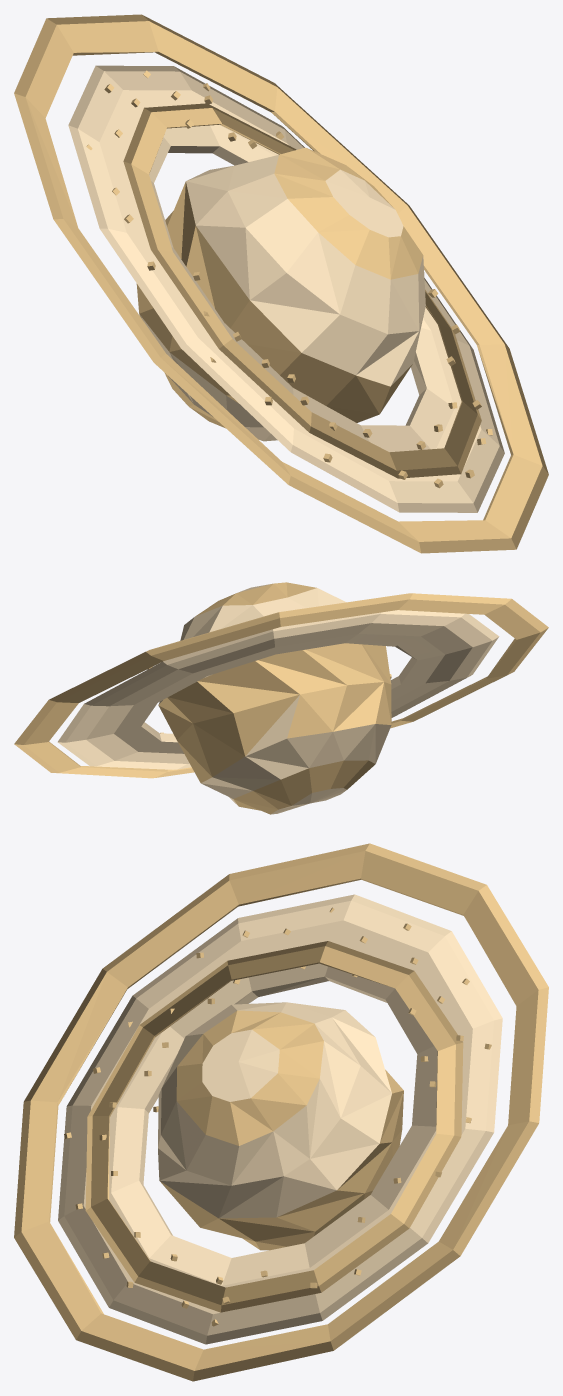
Rendered from saturn.gltf.
3 views of the same model, one above another, from view 1: azimuth 30°, elevation 25°; view 2: azimuth 150°, elevation 25°; view 3: azimuth 270°, elevation 25° (orthographic). The views are drawn at different scales.
Visible parts, largest first — view 1: model.002, model.224, model.047, model.048; view 2: model.002, model.224, model.047; view 3: model.224, model.047, model.002, model.048.
Part boxes in pixels (left/top/right/bottom): model.002: left=136, top=147, right=425, bottom=441; model.224: left=68, top=65, right=504, bottom=512; model.047: left=14, top=14, right=548, bottom=553; model.048: left=123, top=103, right=481, bottom=478; model.002: left=158, top=582, right=391, bottom=814; model.224: left=57, top=610, right=499, bottom=769; model.047: left=14, top=593, right=548, bottom=778; model.224: left=58, top=894, right=502, bottom=1344; model.047: left=14, top=843, right=548, bottom=1381; model.002: left=158, top=1002, right=403, bottom=1250; model.048: left=85, top=941, right=463, bottom=1312.
Bounding box in the file's own units: 14.91 × 11.41 × 15.47.
